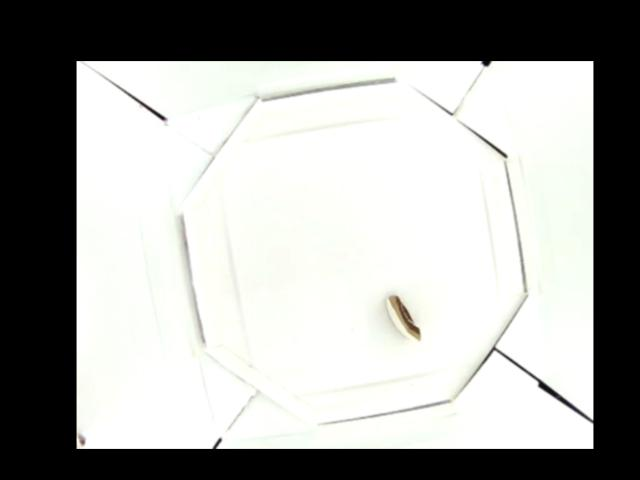China: (383, 293, 421, 341)
